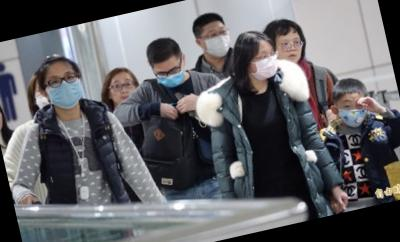with_mask: (42, 66, 88, 114), (200, 22, 235, 61), (333, 94, 370, 130), (248, 48, 282, 82), (153, 61, 188, 91)
without_mask: (108, 74, 140, 106), (276, 34, 307, 67)
